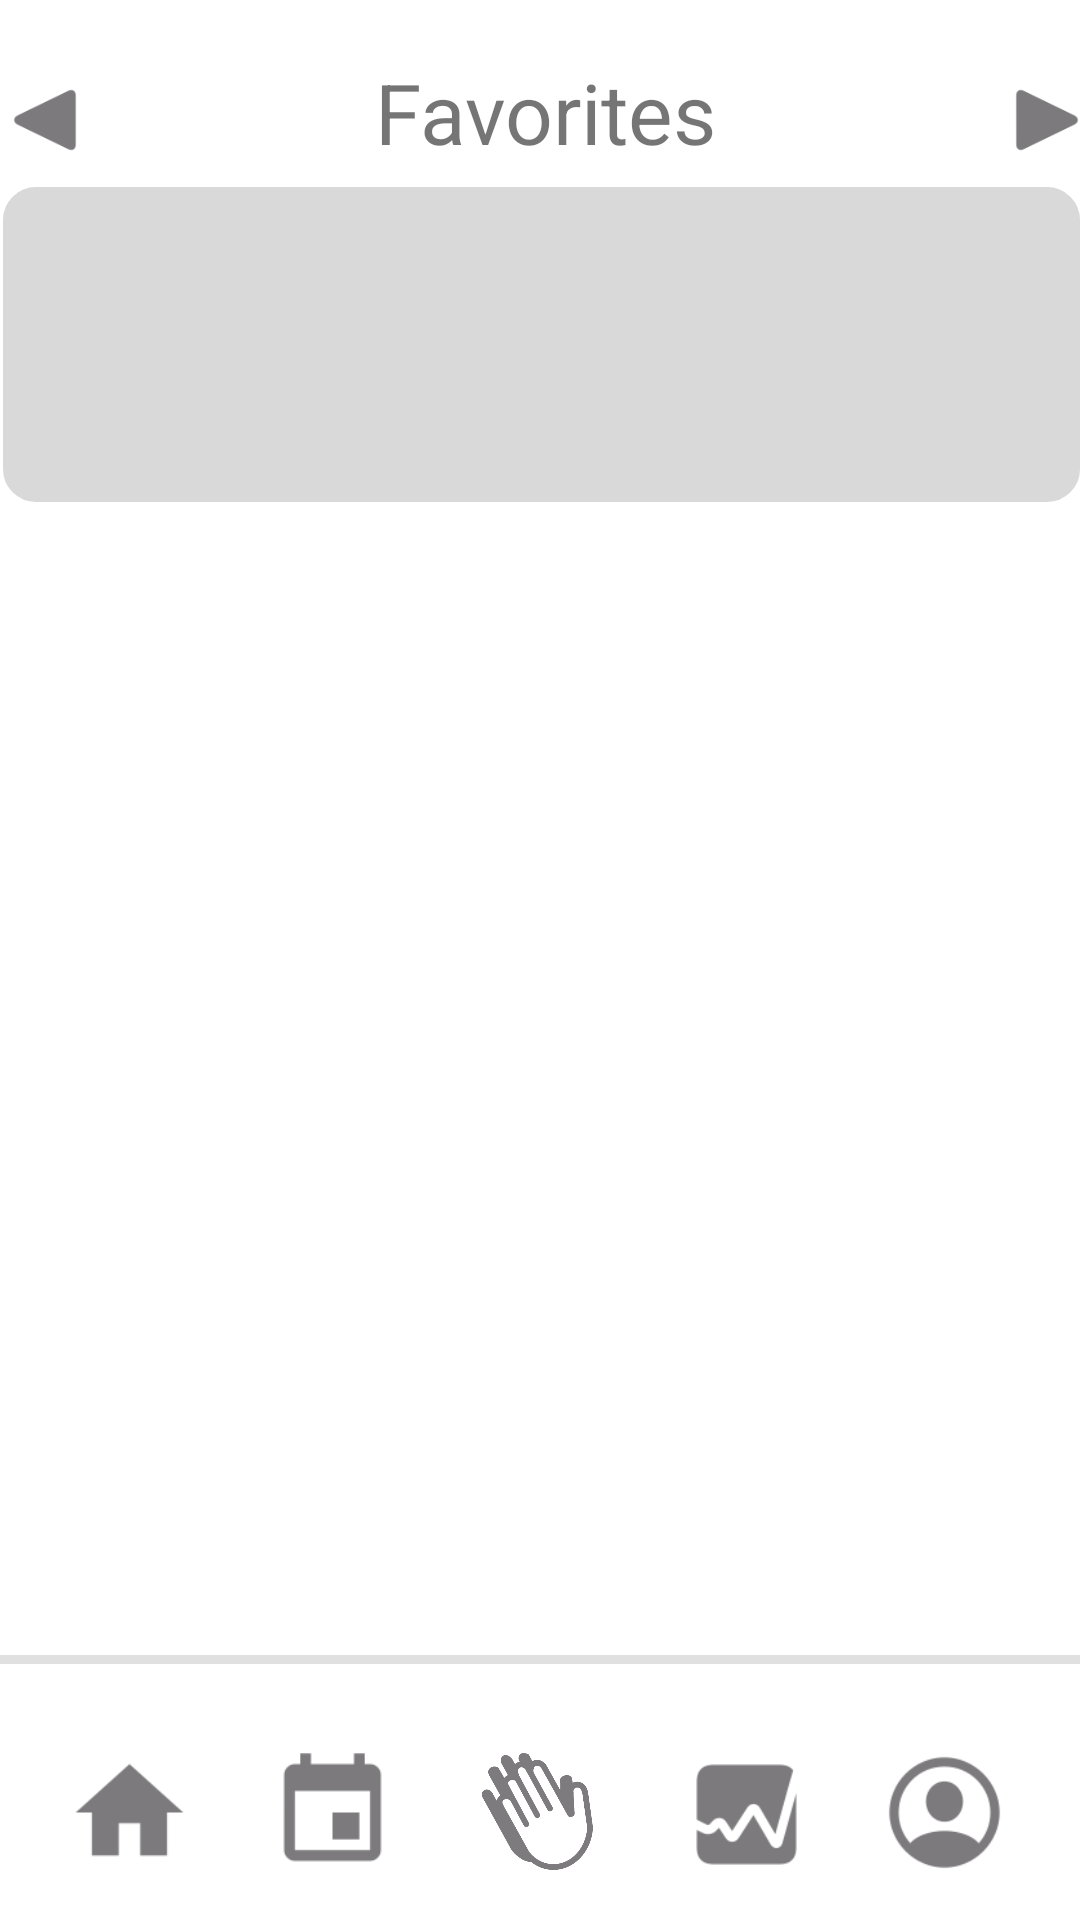

Icons on this 1080px×1920px Android screen, each with the point to tap as (x,y):
calendarbutton: (332,1807)
homebutton: (129,1810)
mypagebutton: (944,1812)
praybutton: (537,1811)
summarybutton: (746,1814)
